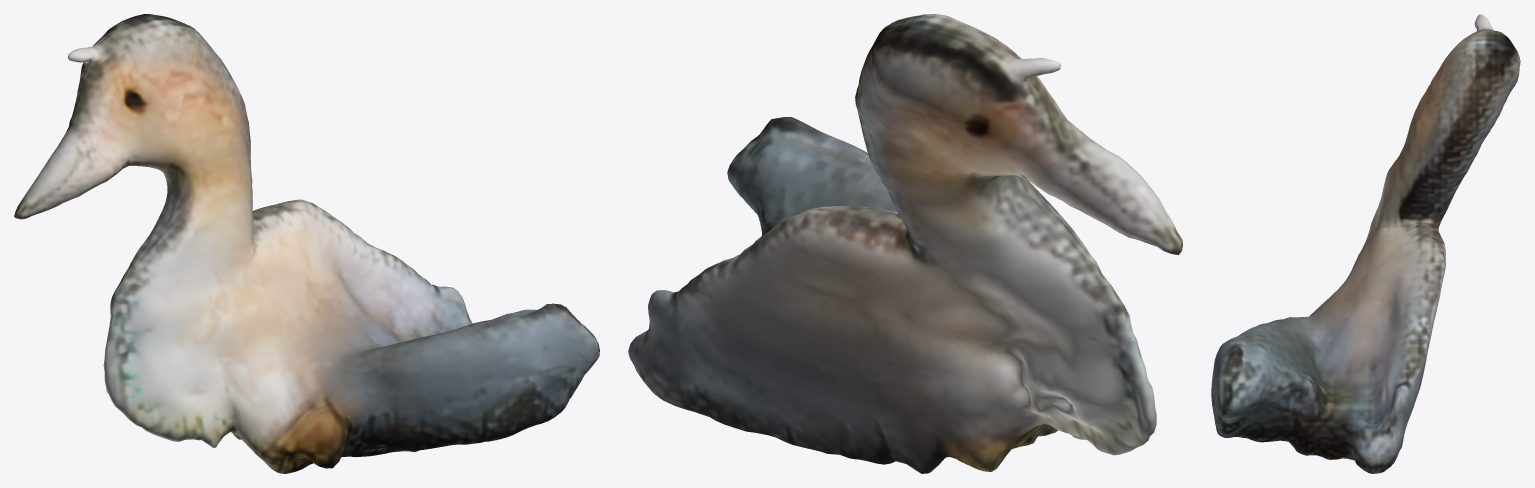
Rendered from bebe.glb.
3 renders of one model, left to right at view 1: azimuth 30°, elevation 25°; view 2: azimuth 150°, elevation 25°; view 3: azimuth 270°, elevation 25°, orthographic. The views are drawn at different scales.
Visible parts, largest first — view 1: mesh; view 2: mesh; view 3: mesh.
Boxes of the visible parts, x1,y1,x2,y2 form: mesh: [14, 14, 599, 473]; mesh: [628, 14, 1182, 473]; mesh: [1211, 14, 1520, 473].
Bounding box in the file's own units: 1.6 × 1.31 × 1.11.
1 material, 1 textured.
